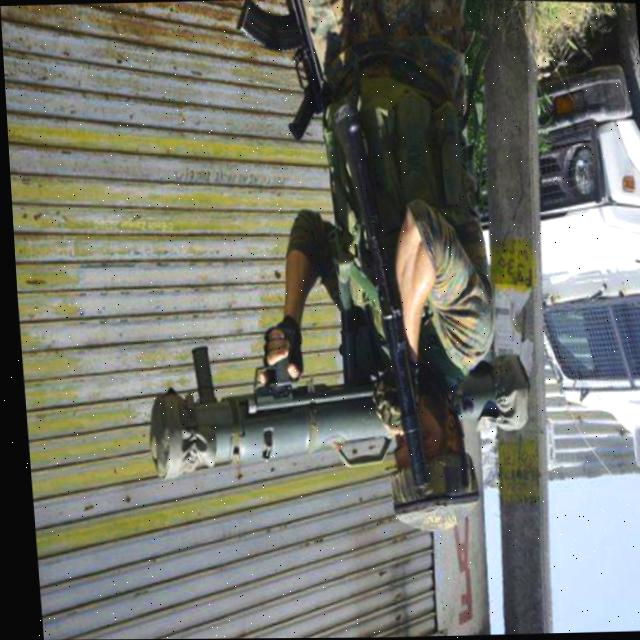rocket: (134, 333, 535, 498)
